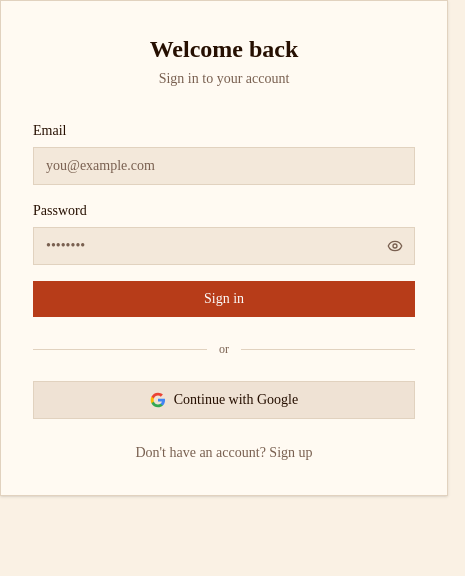
LoginPage › shows error when password is empty
This screenshot has width=465, height=576.
Step 1. Type "test@example.com" into the field labelled "Email" → (224, 166), box [33,147,415,185]
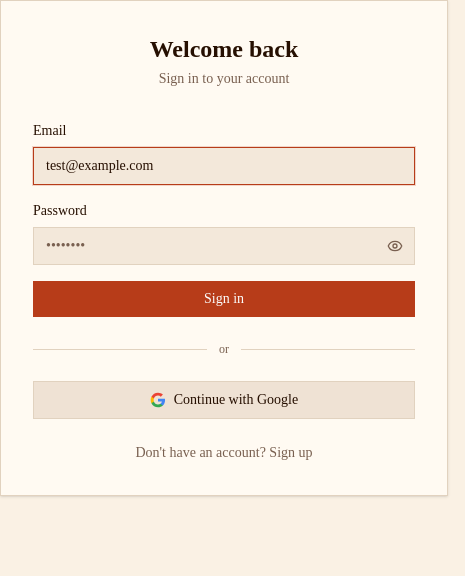
Step 2. Click the button "Sign in" → click(224, 299), box [33,281,415,317]
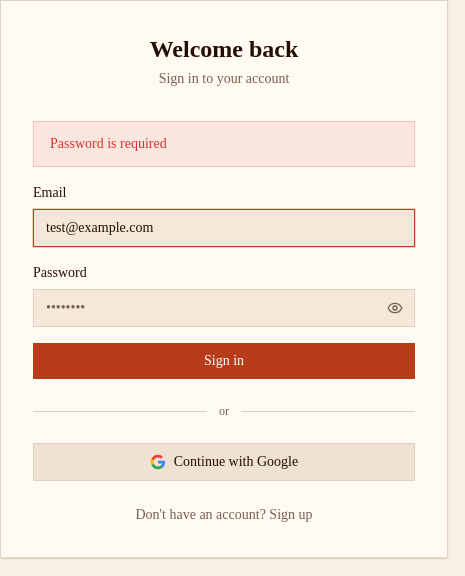
Now the message reads "Password is required", box [50,136,167,151]
